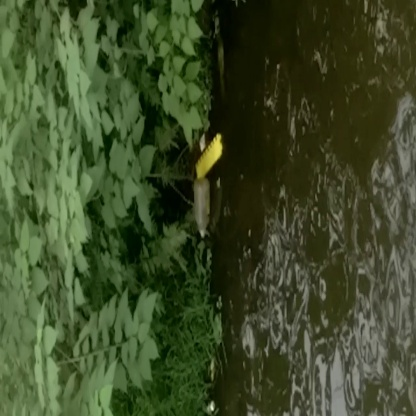bottle: (193, 178, 214, 239)
